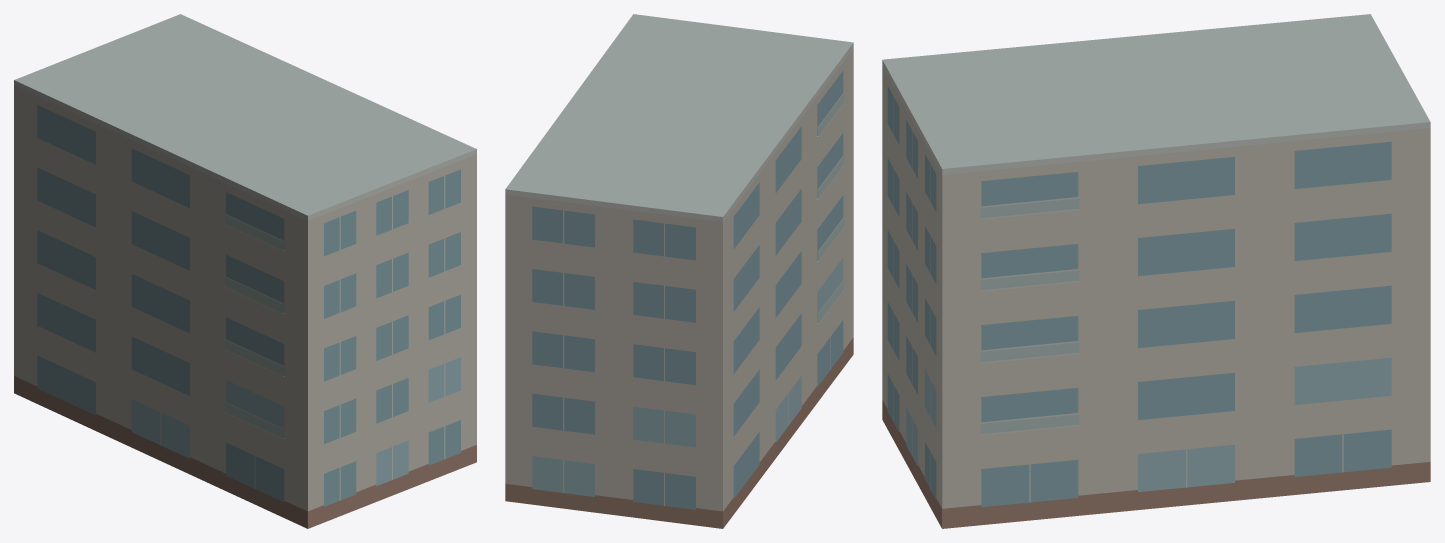
File: survey-upis-33021260.glb
3 views of the same model, side by side, from view 1: azimuth 30°, elevation 25°; view 2: azimuth 150°, elevation 25°; view 3: azimuth 270°, elevation 25° (orthographic). The views are drawn at different scales.
Parts seen in each view (by area): view 1: survey-upis-33021260.tmp; view 2: survey-upis-33021260.tmp; view 3: survey-upis-33021260.tmp.
Part boxes in pixels (x1,y1,x2,y2): survey-upis-33021260.tmp: [14, 14, 476, 528]; survey-upis-33021260.tmp: [505, 14, 853, 528]; survey-upis-33021260.tmp: [882, 14, 1430, 528].
Bounding box in the file's own units: 13.49 × 14.6 × 20.17.
